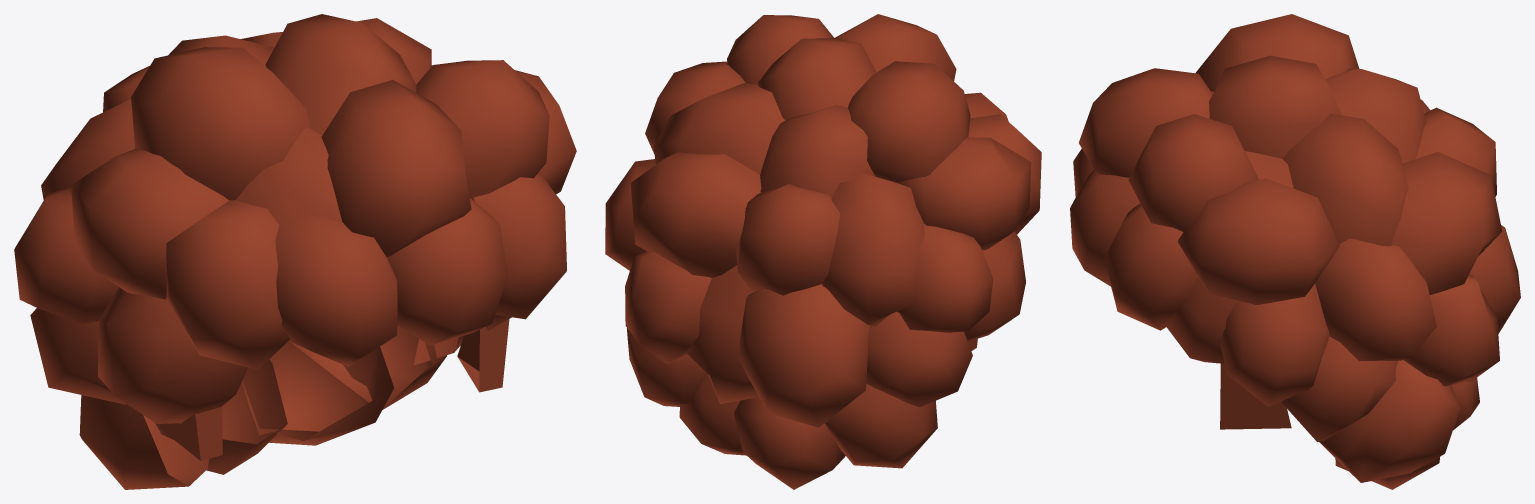
The model's file is Male_Hairs_04_v4.fbx.
3 views of the same model, side by side, from view 1: azimuth 30°, elevation 25°; view 2: azimuth 150°, elevation 25°; view 3: azimuth 270°, elevation 25° (orthographic). The views are drawn at different scales.
Parts seen in each view (by area): view 1: Male_Hairs_04_v4; view 2: Male_Hairs_04_v4; view 3: Male_Hairs_04_v4.
Part boxes in pixels (bbox=[...]): Male_Hairs_04_v4: bbox=[14, 14, 576, 489]; Male_Hairs_04_v4: bbox=[605, 14, 1041, 489]; Male_Hairs_04_v4: bbox=[1070, 14, 1520, 489].
Bounding box in the file's own units: 78.16 × 75.37 × 76.42.
